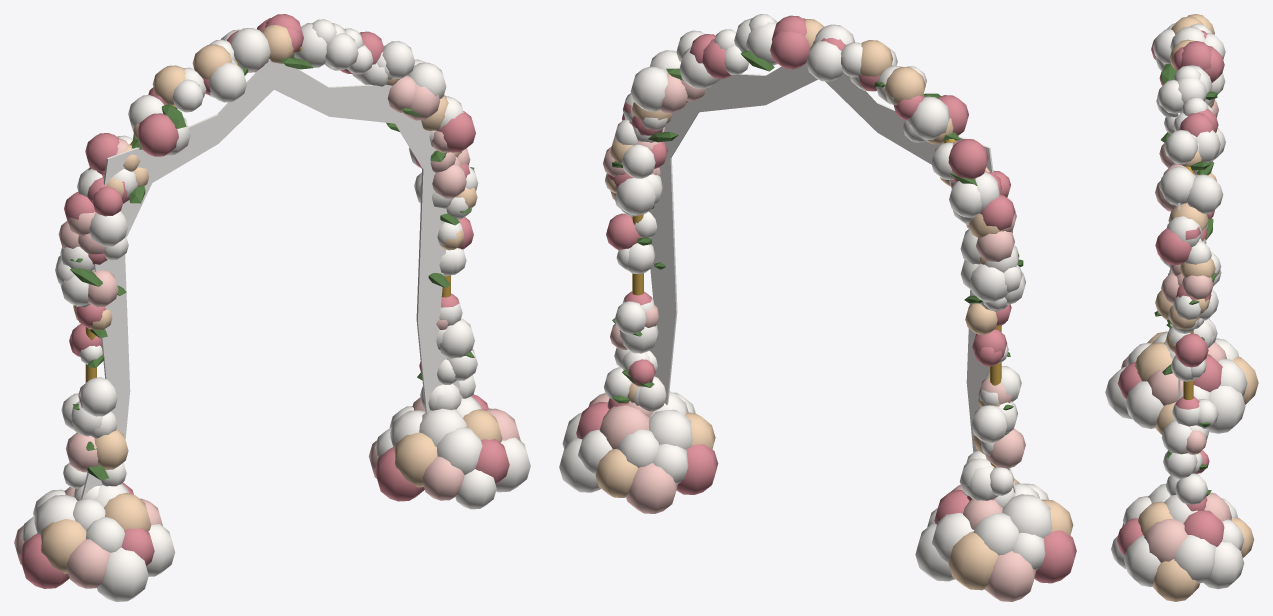
File: arch.glb
3 renders of one model, left to right at view 1: azimuth 30°, elevation 25°; view 2: azimuth 150°, elevation 25°; view 3: azimuth 270°, elevation 25°, orthographic. The views are drawn at different scales.
Visible parts, largest first — view 1: chiffon255, chiffon254, flowerWhite275, flowerPeach265, flowerPeach288, flowerBlush270, flowerRose273, flowerWhite285, flowerRose94, flowerRose296, flowerBlush293, flowerWhite72 (+34 smaller); view 2: chiffon255, chiffon254, flowerPeach271, flowerBlush299, flowerBlush276, flowerRose273, flowerWhite260, flowerPeach294, flowerRose296, flowerWhite283, flowerBlush281, flowerWhite263 (+37 smaller); view 3: flowerWhite292, flowerPeach300, flowerBlush287, flowerWhite274, flowerWhite297, flowerWhite272, flowerWhite295, flowerWhite36, flowerWhite35, flowerRose284, flowerPeach259, flowerRose23 (+53 smaller).
Boxes of the visible parts, x1=… form: chiffon255: x1=274, y1=62, x2=463, y2=413; chiffon254: x1=80, y1=59, x2=273, y2=499; flowerWhite275: x1=97, y1=547, x2=148, y2=601; flowerPeach265: x1=40, y1=519, x2=86, y2=573; flowerPeach288: x1=394, y1=432, x2=437, y2=487; flowerBlush270: x1=66, y1=539, x2=110, y2=588; flowerRose273: x1=19, y1=533, x2=69, y2=588; flowerWhite285: x1=437, y1=427, x2=482, y2=474; flowerRose94: x1=137, y1=113, x2=178, y2=156; flowerRose296: x1=374, y1=447, x2=424, y2=501; flowerBlush293: x1=422, y1=456, x2=464, y2=500; flowerWhite72: x1=231, y1=28, x2=270, y2=71; chiffon255: x1=648, y1=63, x2=817, y2=404; chiffon254: x1=825, y1=72, x2=1016, y2=493; flowerPeach271: x1=948, y1=531, x2=998, y2=590; flowerBlush299: x1=626, y1=463, x2=677, y2=513; flowerBlush276: x1=985, y1=551, x2=1036, y2=601; flowerRose273: x1=1034, y1=530, x2=1076, y2=583; flowerWhite260: x1=1002, y1=494, x2=1051, y2=538; flowerPeach294: x1=595, y1=448, x2=637, y2=497; flowerRose296: x1=676, y1=444, x2=718, y2=494; flowerWhite283: x1=649, y1=409, x2=692, y2=449; flowerBlush281: x1=599, y1=405, x2=649, y2=449; flowerWhite263: x1=973, y1=513, x2=1018, y2=555; flowerWhite292: x1=1174, y1=535, x2=1215, y2=583; flowerPeach300: x1=1153, y1=559, x2=1199, y2=601; flowerBlush287: x1=1144, y1=519, x2=1187, y2=562; flowerWhite274: x1=1208, y1=385, x2=1245, y2=433; flowerWhite297: x1=1203, y1=542, x2=1244, y2=589; flowerWhite272: x1=1125, y1=381, x2=1163, y2=428; flowerWhite295: x1=1124, y1=535, x2=1160, y2=586; flowerWhite36: x1=1187, y1=174, x2=1223, y2=214; flowerWhite35: x1=1159, y1=166, x2=1195, y2=205; flowerRose284: x1=1183, y1=510, x2=1224, y2=546; flowerPeach259: x1=1135, y1=342, x2=1172, y2=381; flowerRose23: x1=1155, y1=228, x2=1191, y2=265.
Size of the model in its own units: 4.53 by 4.43 by 1.32.
